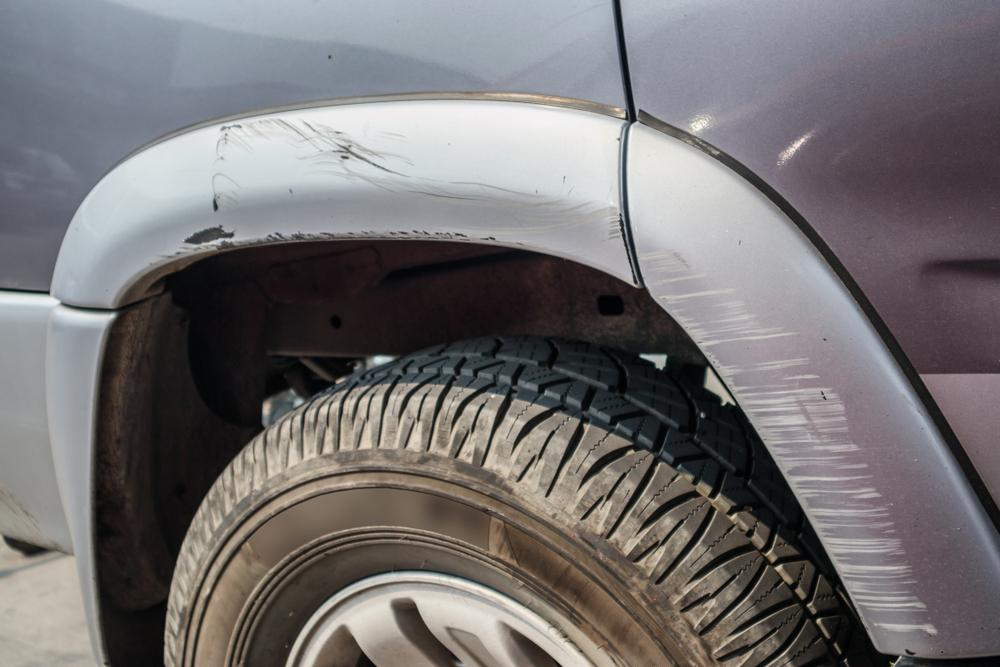scratch: (641, 238, 942, 638), (171, 116, 642, 291)
